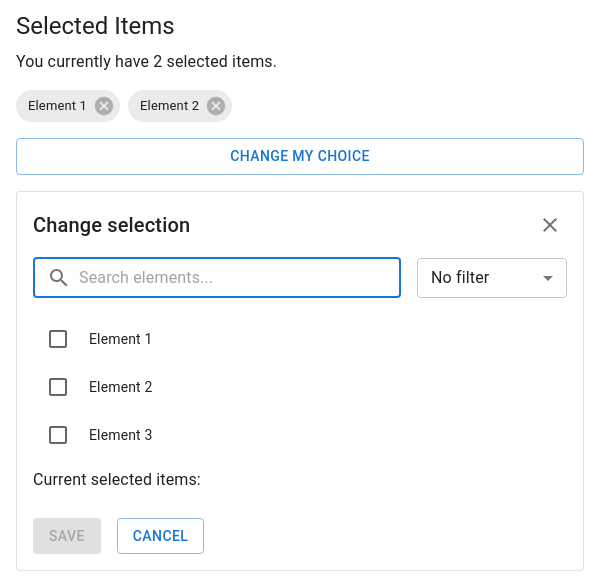
Test: SelectionWidget › removing a chip updates the displayed chips
# Find the chip delete icon for Element 1
Click the 1st icon at (104, 106), box [93,95,115,117]
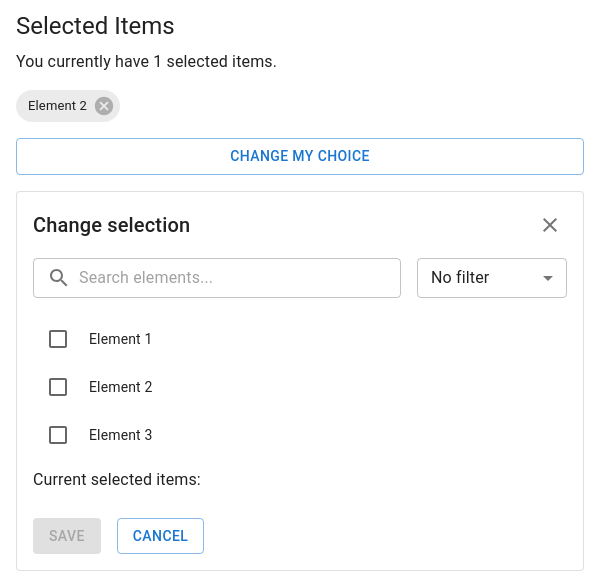
expect the text "Element 1" is shown once: met, box [89,330,152,346]
expect the text "Element 2" is shown 2 times: met, box [28,98,87,113]; [89,378,152,394]
